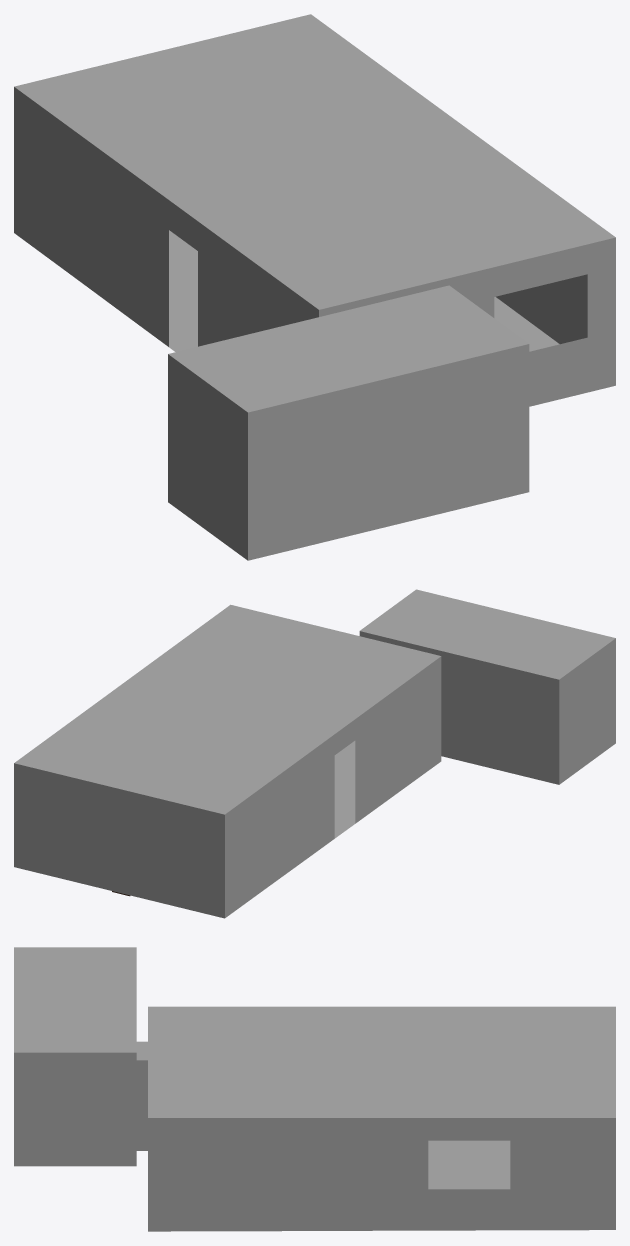
File: room_closet.fbx
3 renders of one model, top to bottom at view 1: azimuth 30°, elevation 25°; view 2: azimuth 150°, elevation 25°; view 3: azimuth 270°, elevation 25°, orthographic. The views are drawn at different scales.
Parts seen in each view (by area): view 1: rooms; view 2: rooms; view 3: rooms.
Boxes of the visible parts, <box> form: rooms: <box>14,14,615,560</box>; rooms: <box>14,589,615,918</box>; rooms: <box>14,947,615,1231</box>.
Bounding box in the file's own units: 497 × 176 × 742.
